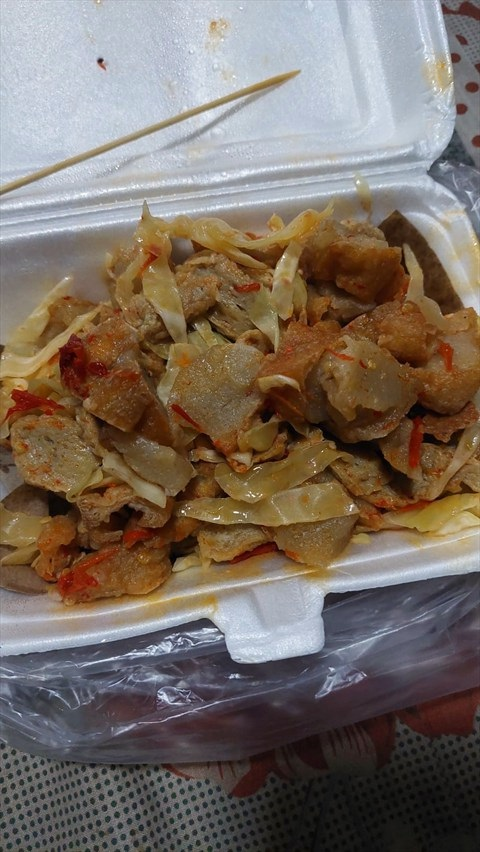Tahu Goreng: (40, 77, 461, 683)
